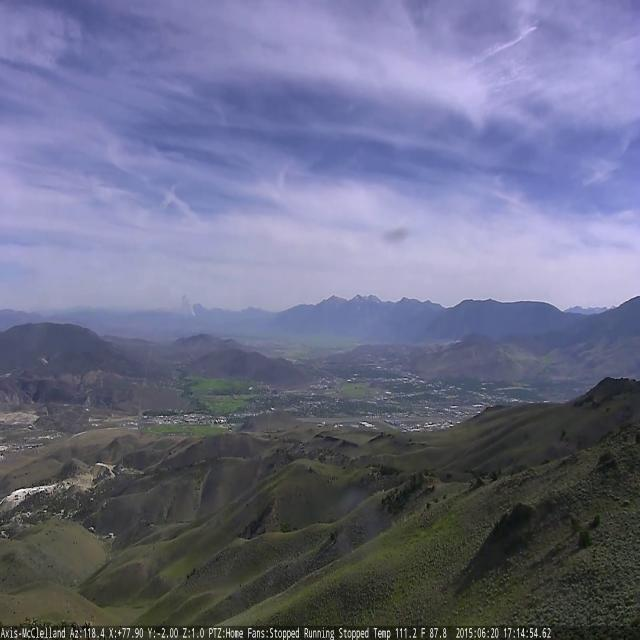smoke: (165, 283, 196, 318)
